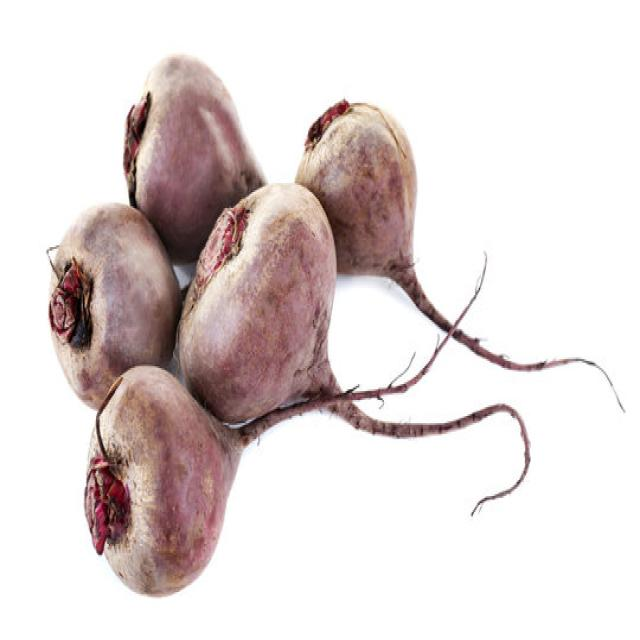Beetroot: (180, 199, 376, 429), (83, 375, 252, 597), (122, 50, 268, 265), (46, 201, 182, 411), (302, 100, 450, 288)
